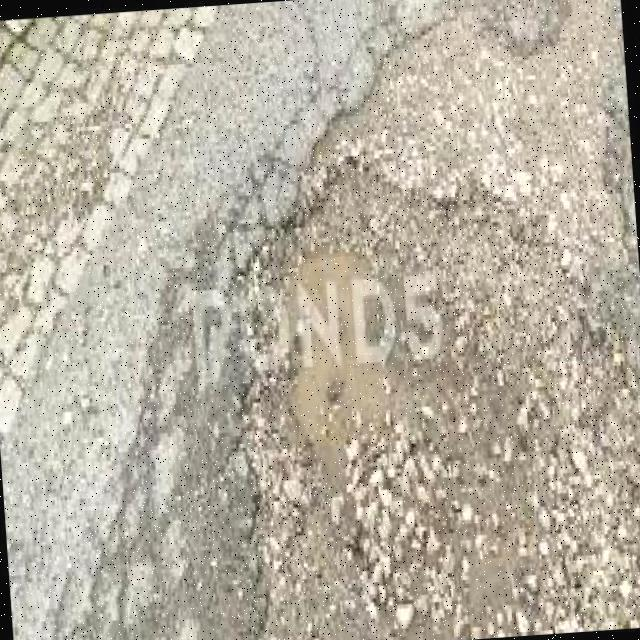pothole: (253, 178, 472, 632)
